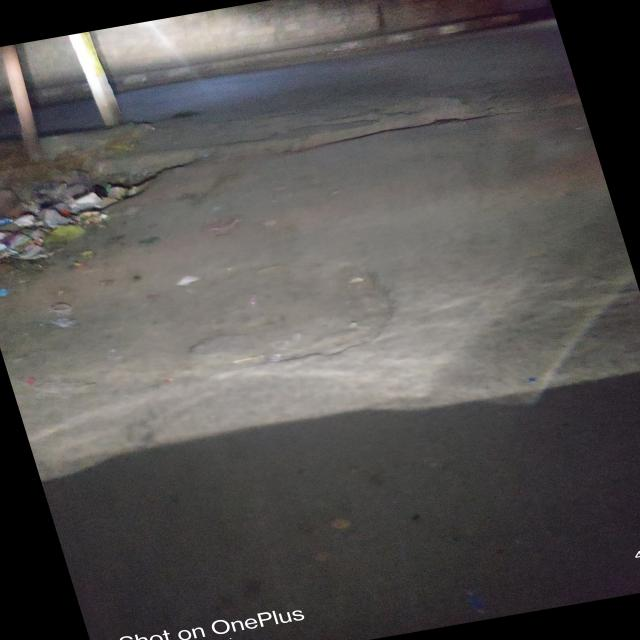potholes: (152, 259, 410, 371)
